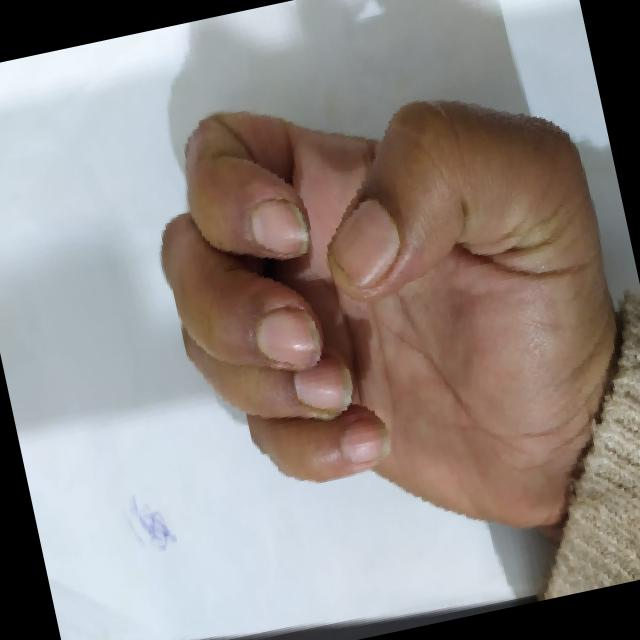Nail: (333, 196, 401, 285), (254, 307, 321, 367), (249, 197, 308, 256), (292, 356, 353, 411), (341, 416, 387, 460)
